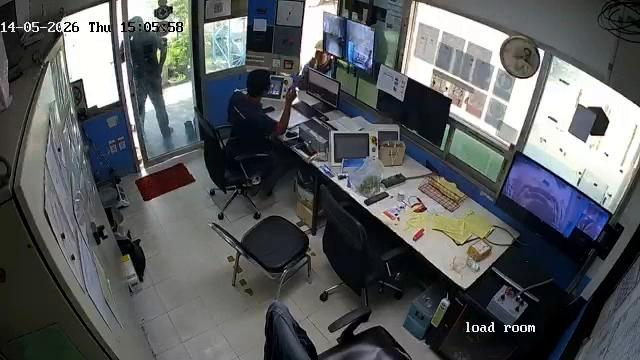Head: (245, 68, 272, 99)
People: (226, 68, 295, 205)
Phone: (262, 106, 275, 114)
